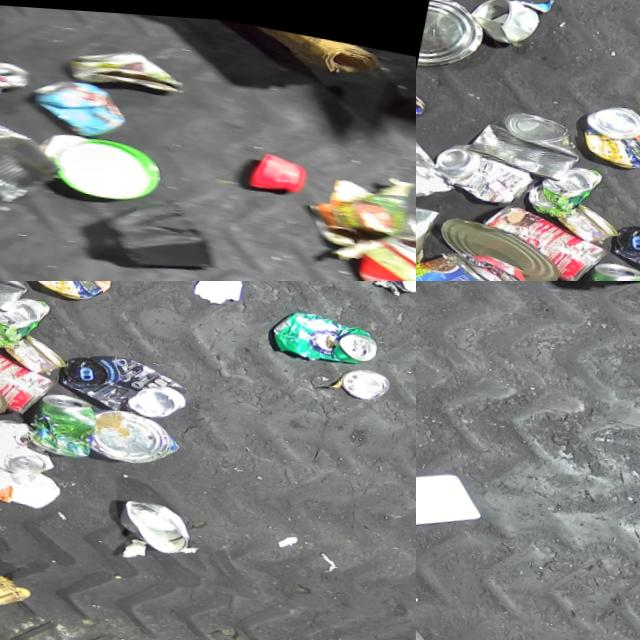can: (477, 198, 615, 281), (61, 343, 197, 420), (466, 102, 588, 183), (436, 214, 569, 281), (432, 138, 540, 208), (271, 299, 386, 363), (25, 72, 133, 139), (0, 109, 67, 209), (93, 402, 189, 467), (417, 0, 491, 76), (0, 329, 63, 417), (30, 385, 106, 455), (123, 492, 206, 553), (528, 156, 607, 220), (578, 97, 640, 171), (0, 408, 67, 475), (416, 237, 512, 281), (350, 224, 416, 281), (0, 286, 54, 350), (465, 0, 540, 46), (556, 197, 625, 244), (4, 328, 73, 375), (0, 48, 42, 114), (342, 358, 395, 396), (26, 281, 121, 302), (416, 201, 445, 267), (582, 253, 640, 281), (416, 83, 433, 143)
milk_jug: (416, 444, 490, 552)
